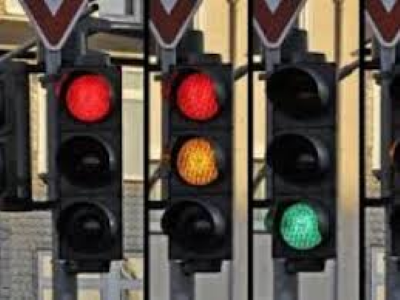trafficlight_green: (268, 67, 335, 260)
trafficlight_red: (166, 65, 234, 260), (56, 65, 122, 260)
